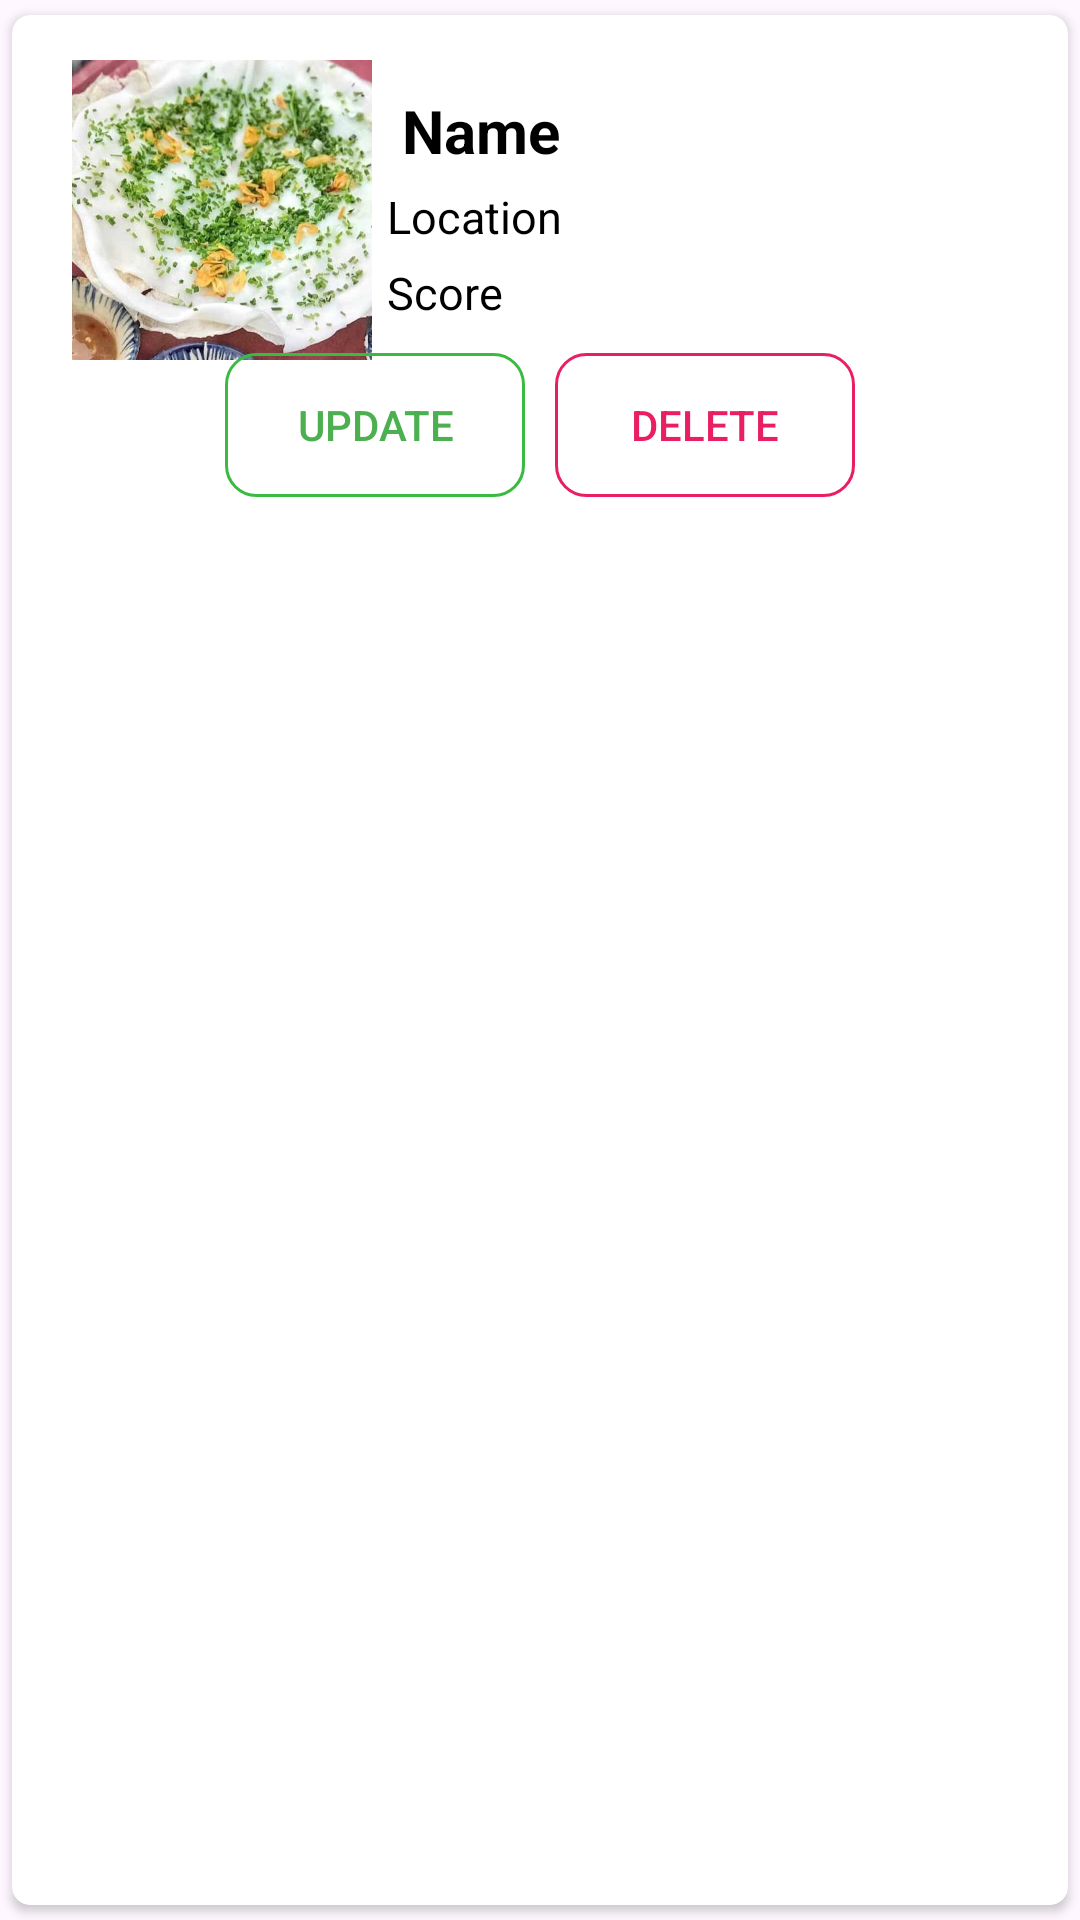

Icons on this 1080 × 1920 Android screen, each with its box as region(x1, y1, x2, y2):
banhdap: region(72, 60, 372, 360)
